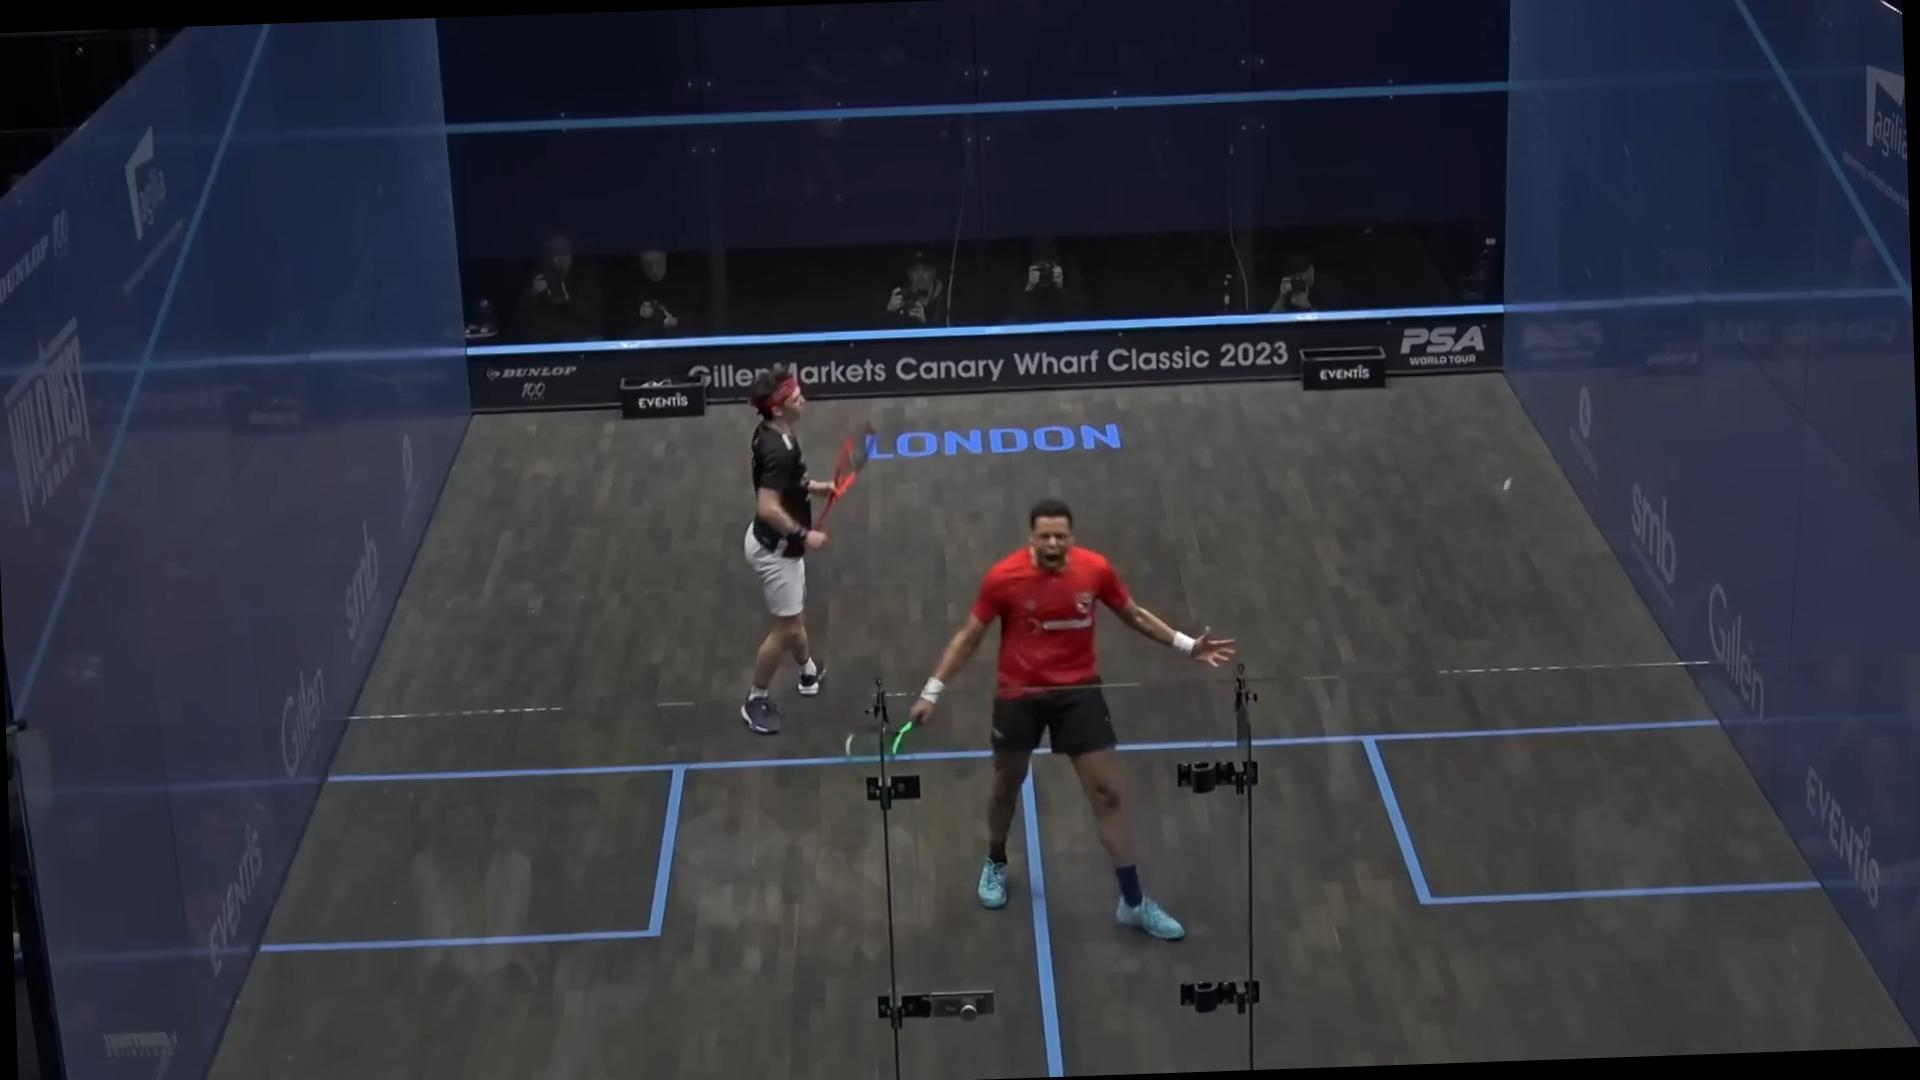Racket: (810, 413, 884, 534), (843, 716, 927, 799)
